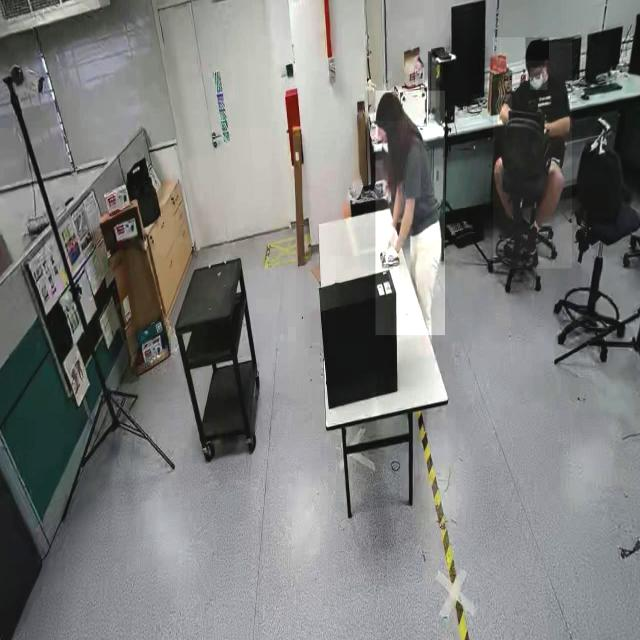face_mask: (530, 68, 548, 90)
hand_glove: (378, 224, 396, 261)
hand_noglove: (498, 95, 512, 127)
head_nohelmet: (375, 92, 401, 122), (525, 38, 549, 62)
person: (492, 38, 572, 270), (375, 91, 445, 336)
